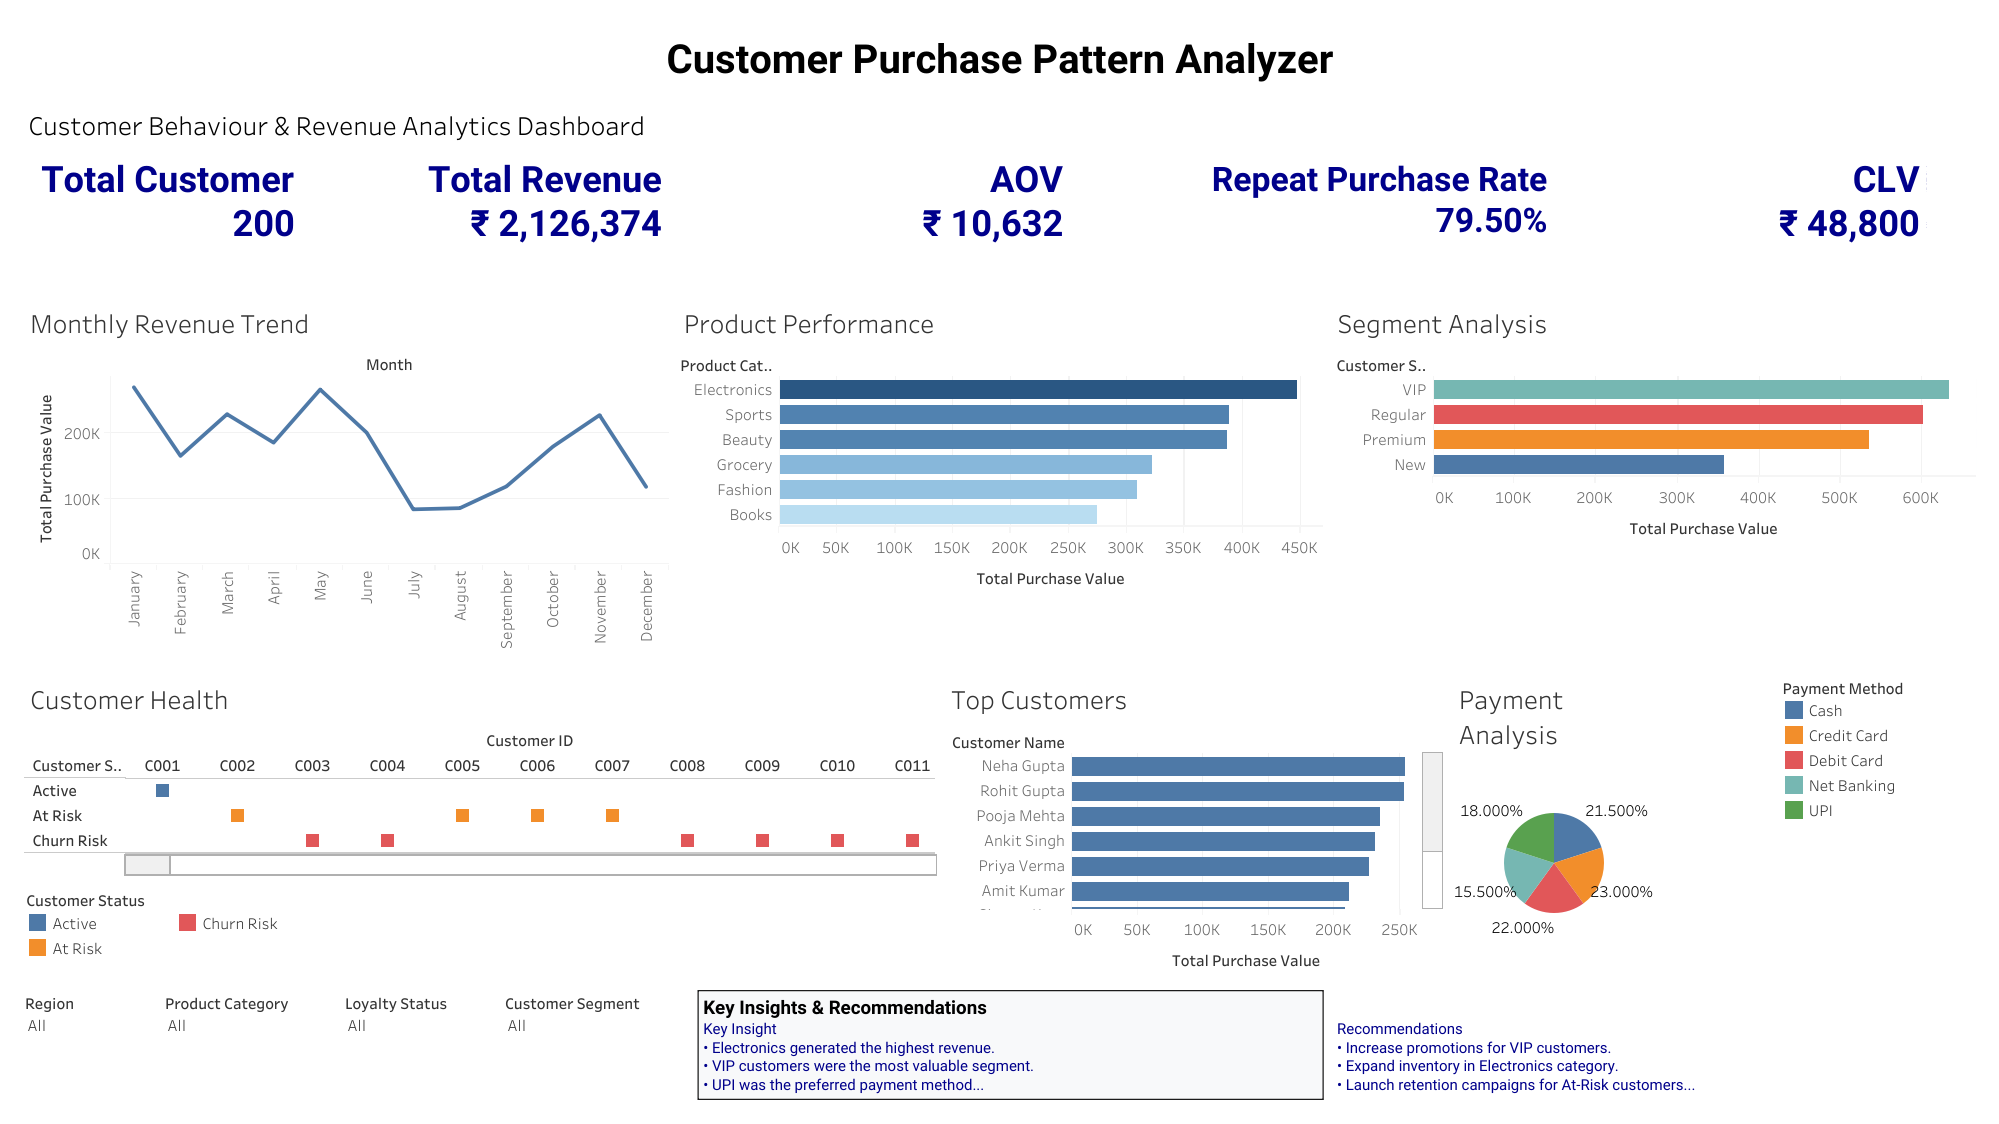

Layout of this report page (visuals, bound fields, positions):
{"tool":"tableau","page":{"name":"Customer Purchase Pattern Analyzer","canvas":[1600,900],"ordinal":0},"visuals":[{"type":"text","box":[16,16,1568,62.1]},{"type":"text","box":[16,78.1,1568,44.4]},{"type":"worksheet","title":"KPI - Customers","mark":"Automatic","box":[16,122,314,112]},{"type":"worksheet","title":"KPI - Total Revenue","mark":"Automatic","box":[330,122,314,112]},{"type":"worksheet","title":"KPI-AOV","mark":"Automatic","box":[644,122,314,112]},{"type":"worksheet","title":"KPI - Repeat Purchase Rate","mark":"Automatic","box":[958,122,313,112]},{"type":"worksheet","title":"KPI - CLV","mark":"Automatic","box":[1271,122,313,112]},{"type":"worksheet","title":"Revenue Trend","mark":"Line","rows":["Total Purchase Value"],"cols":["Month"],"box":[16,234,523,301]},{"type":"worksheet","title":"Product Performance","mark":"Automatic","rows":["Product Category"],"cols":["Total Purchase Value"],"box":[539,234,523,301]},{"type":"worksheet","title":"Segment Analysis","mark":"Automatic","rows":["Customer Segment"],"cols":["Total Purchase Value"],"box":[1062,234,522,301]},{"type":"worksheet","title":"Customer Health","mark":"Automatic","rows":["Customer Status"],"cols":["Customer ID"],"box":[16,534.8,737.5,170]},{"type":"worksheet","title":"Top Customers","mark":"Automatic","rows":["Customer Name"],"cols":["Total Purchase Value"],"box":[753.5,534.8,405.5,252.9]},{"type":"worksheet","title":"Payment Analysis","mark":"Pie","box":[1159,534.8,262,252.9]},{"type":"legend","title":"Payment Analysis","param":"[federated.0rrkpzb0mxbvey193o2y20nk2anw].[none:Payment Method:nk]","box":[1421,534.8,163,252.9]},{"type":"legend","title":"Customer Health","param":"[federated.0rrkpzb0mxbvey193o2y20nk2anw].[none:Customer Status:nk]","box":[16,704.8,737.5,82.9]},{"type":"filter","title":"Revenue Trend","param":"[federated.0rrkpzb0mxbvey193o2y20nk2anw].[none:Region:nk]","box":[16,787.8,111.9,96.2]},{"type":"filter","title":"Revenue Trend","param":"[federated.0rrkpzb0mxbvey193o2y20nk2anw].[none:Product Category:nk]","box":[127.9,787.8,144.5,96.2]},{"type":"filter","title":"Revenue Trend","param":"[federated.0rrkpzb0mxbvey193o2y20nk2anw].[none:Loyalty Status:nk]","box":[272.4,787.8,127.7,96.2]},{"type":"filter","title":"Revenue Trend","param":"[federated.0rrkpzb0mxbvey193o2y20nk2anw].[none:Customer Segment:nk]","box":[400.1,787.8,154.4,96.2]},{"type":"text","box":[554.5,787.8,508.8,96.2]},{"type":"text","box":[1063.3,787.8,520.7,96.2]}]}

Visuals, with their boxes in screenshot pixels (x1, y1, x2, y2), scaled from the page's 1600x900 canvas onto the 1999x1124 screenshot:
text: region(20, 20, 1979, 98)
text: region(20, 98, 1979, 153)
"KPI - Customers" worksheet: region(20, 152, 412, 292)
"KPI - Total Revenue" worksheet: region(412, 152, 805, 292)
"KPI-AOV" worksheet: region(805, 152, 1197, 292)
"KPI - Repeat Purchase Rate" worksheet: region(1197, 152, 1588, 292)
"KPI - CLV" worksheet: region(1588, 152, 1979, 292)
"Revenue Trend" worksheet (Line marks): region(20, 292, 673, 668)
"Product Performance" worksheet: region(673, 292, 1327, 668)
"Segment Analysis" worksheet: region(1327, 292, 1979, 668)
"Customer Health" worksheet: region(20, 668, 941, 880)
"Top Customers" worksheet: region(941, 668, 1448, 984)
"Payment Analysis" worksheet (Pie marks): region(1448, 668, 1775, 984)
"Payment Analysis" legend: region(1775, 668, 1979, 984)
"Customer Health" legend: region(20, 880, 941, 984)
"Revenue Trend" filter: region(20, 984, 160, 1104)
"Revenue Trend" filter: region(160, 984, 340, 1104)
"Revenue Trend" filter: region(340, 984, 500, 1104)
"Revenue Trend" filter: region(500, 984, 693, 1104)
text: region(693, 984, 1328, 1104)
text: region(1328, 984, 1979, 1104)
